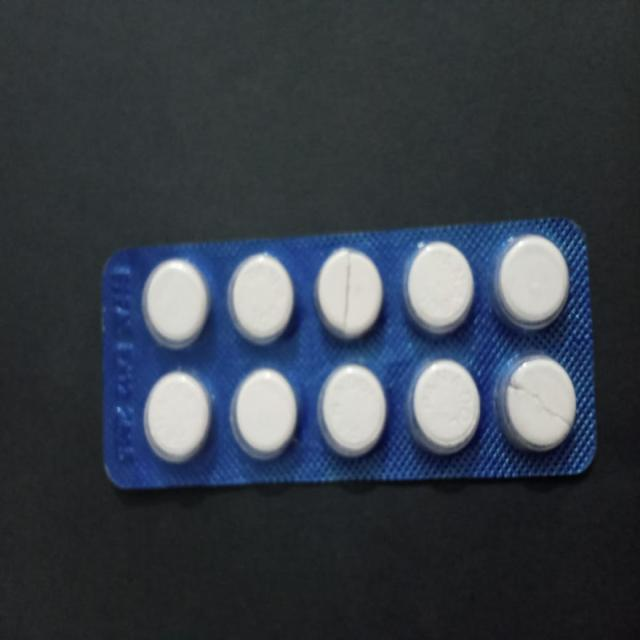defect: (499, 354, 580, 456), (313, 246, 386, 342)
